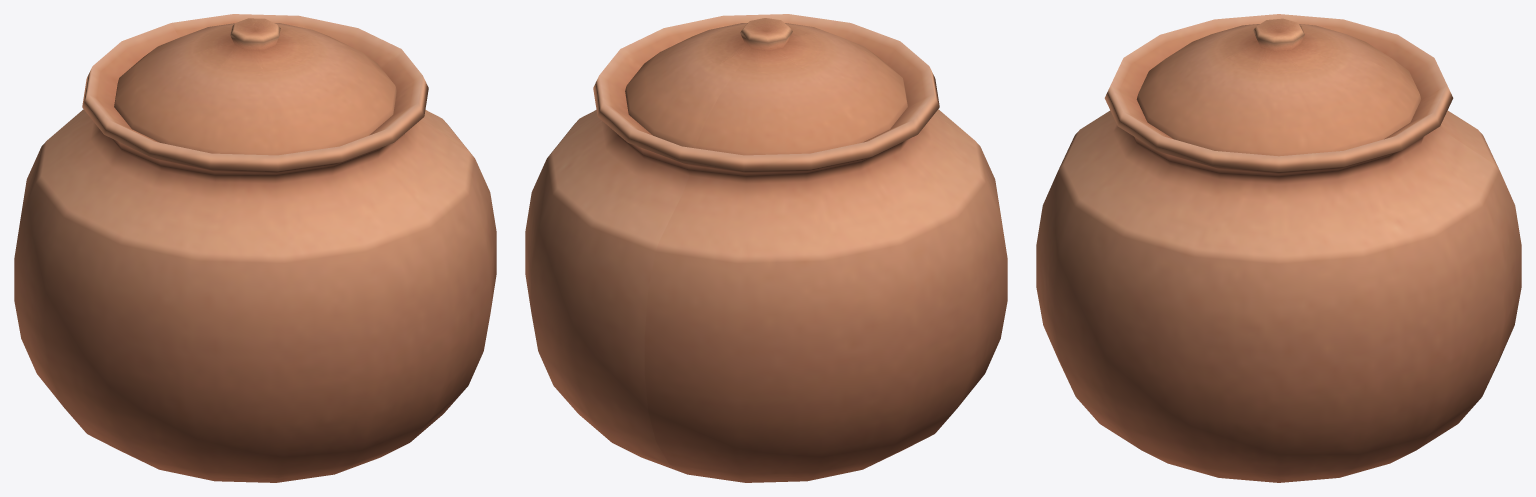
Rendered from Prop_Kaom_close.fbx.
3 views of the same model, side by side, from view 1: azimuth 30°, elevation 25°; view 2: azimuth 150°, elevation 25°; view 3: azimuth 270°, elevation 25° (orthographic).
Parts seen in each view (by area): view 1: Prop_Kaom_close; view 2: Prop_Kaom_close; view 3: Prop_Kaom_close.
Boxes of the visible parts, x1,y1,x2,y2 form: Prop_Kaom_close: (14,14,496,482); Prop_Kaom_close: (525,14,1007,482); Prop_Kaom_close: (1036,14,1521,482).
Bounding box in the file's own units: 50.88 × 46.51 × 50.88.
